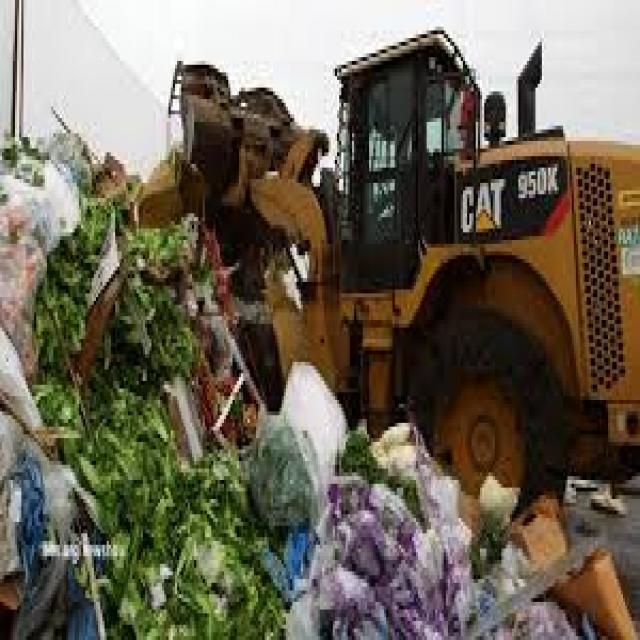food_waste: (29, 348, 248, 630), (48, 462, 451, 603), (25, 180, 153, 607)
